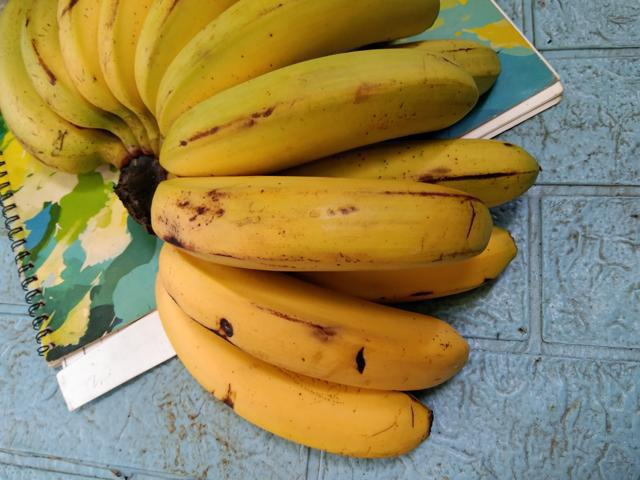ripe: (156, 227, 479, 393), (159, 36, 469, 180), (141, 164, 489, 277), (171, 325, 448, 464), (368, 127, 553, 195)
